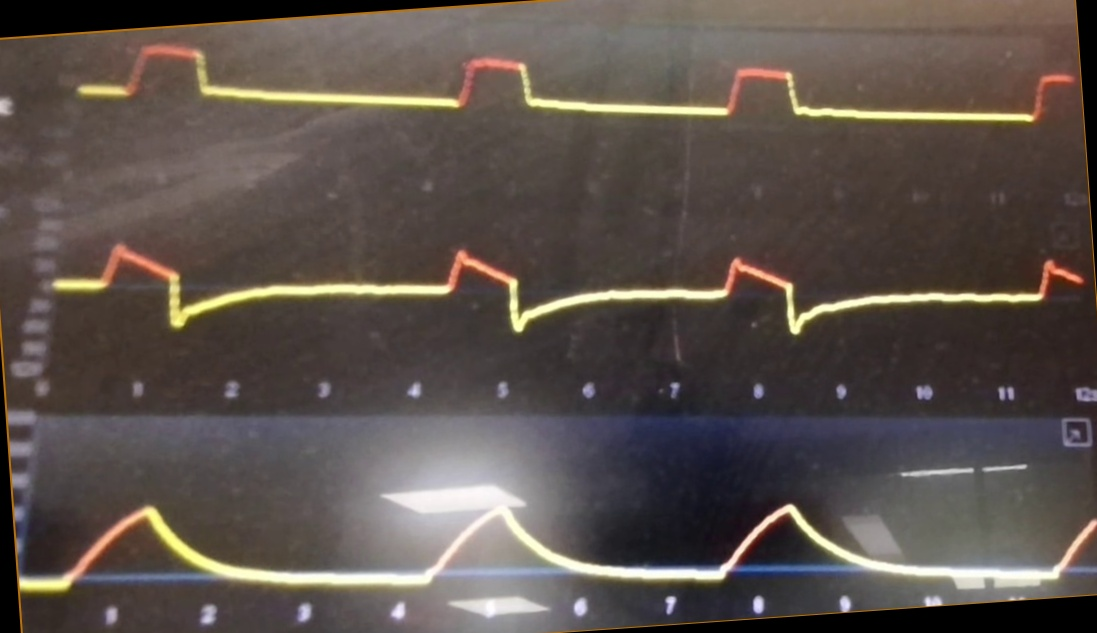Normal Flow: (51, 211, 1085, 355)
Normal Volume: (21, 473, 1097, 592)
